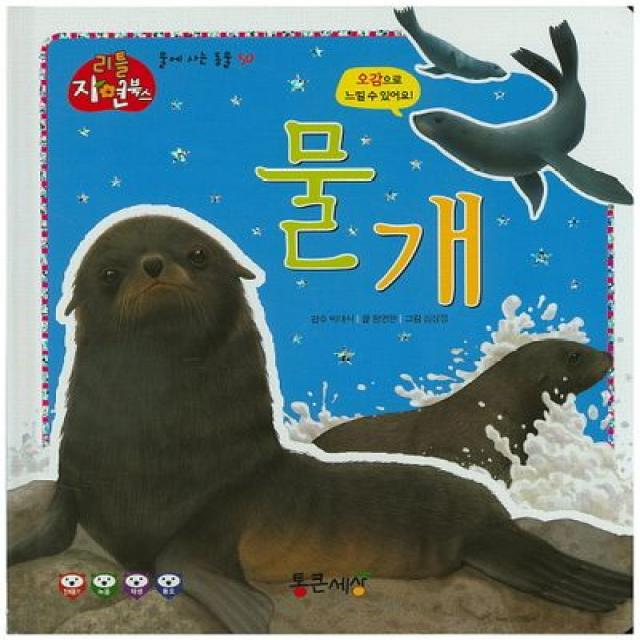WaterDog: (57, 202, 297, 623)
